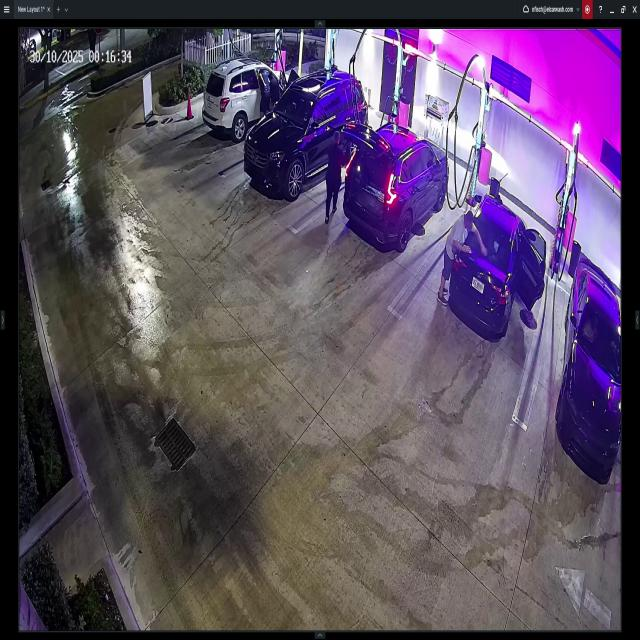Car: (434, 189, 546, 330), (246, 68, 366, 193), (558, 252, 622, 478), (345, 119, 448, 247), (204, 53, 297, 136)
